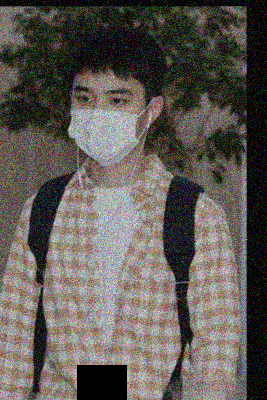with_mask: (71, 82, 147, 168)
